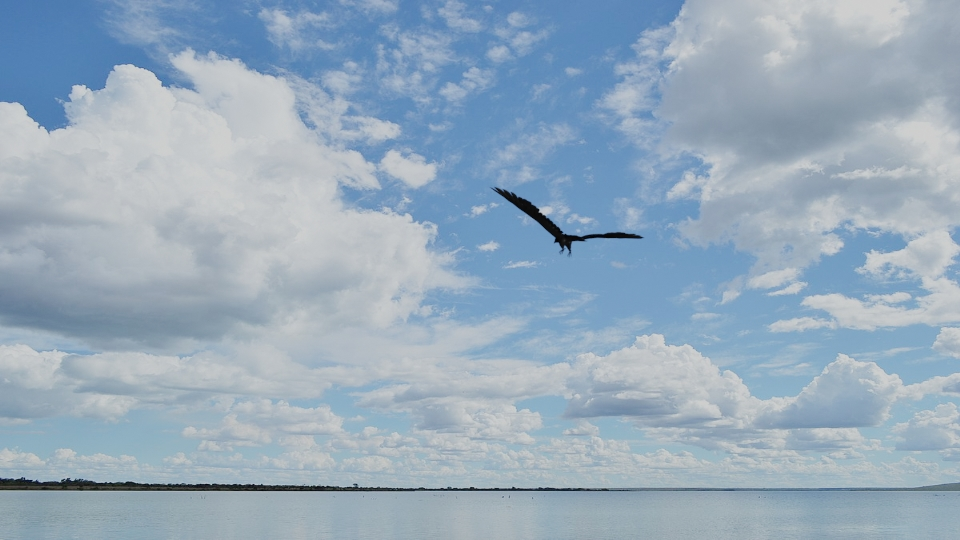bird: (491, 186, 644, 256)
